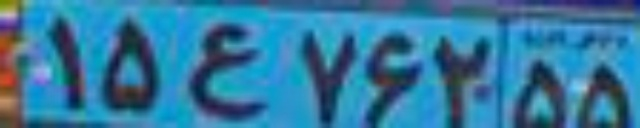1: (48, 17, 85, 109)
2: (432, 33, 491, 126)
5: (97, 17, 160, 112), (503, 55, 571, 126), (579, 60, 632, 127)
6: (358, 30, 423, 124)
7: (299, 31, 358, 124)
ain: (188, 22, 267, 120)
